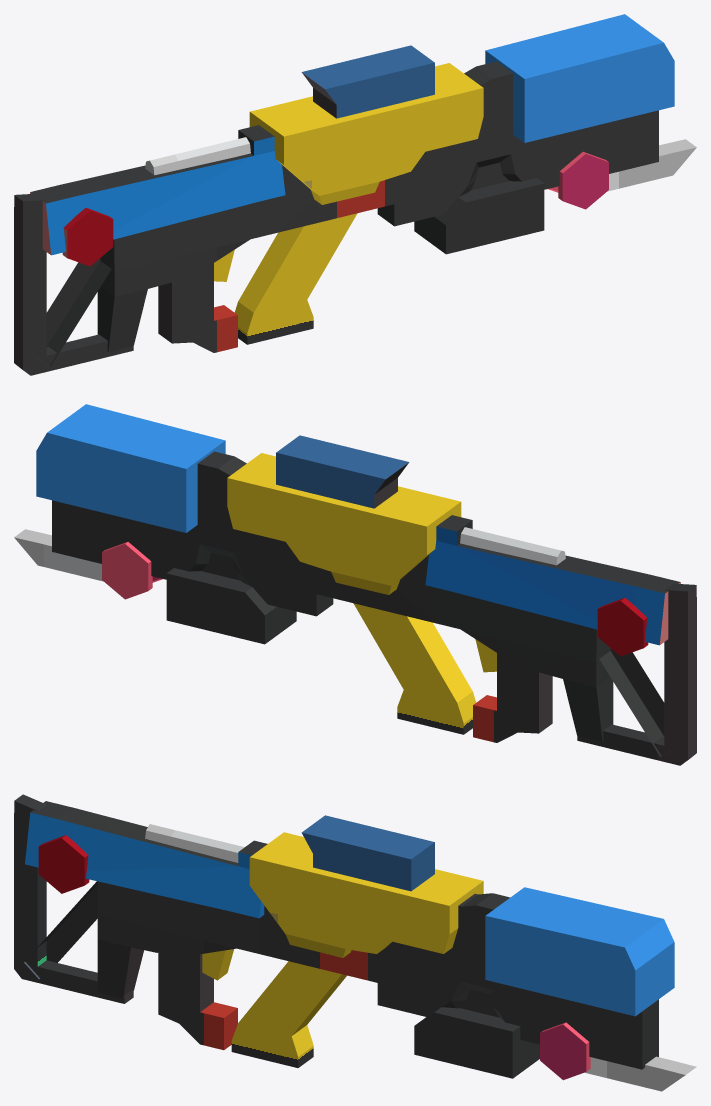
The model's file is gun.fbx.
3 views of the same model, one above another, from view 1: azimuth 30°, elevation 25°; view 2: azimuth 150°, elevation 25°; view 3: azimuth 330°, elevation 25° (orthographic).
Visible parts, largest first — view 1: Plane.007; view 2: Plane.007; view 3: Plane.007.
Boxes of the visible parts, x1,y1,x2,y2 form: Plane.007: (14, 14, 696, 375); Plane.007: (14, 404, 696, 765); Plane.007: (14, 794, 696, 1091).
Size of the model in its own units: 87.48 by 29.99 by 8.8.
1 material, 1 textured.
